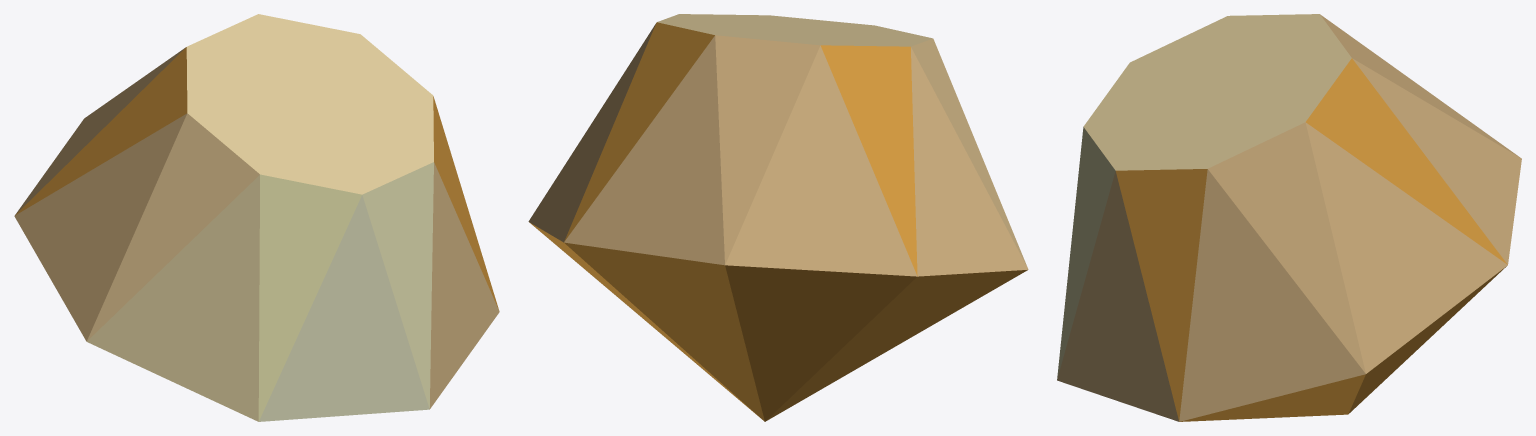
File: item_gem_topaz.glb
3 renders of one model, left to right at view 1: azimuth 30°, elevation 25°; view 2: azimuth 150°, elevation 25°; view 3: azimuth 270°, elevation 25°, orthographic. The views are drawn at different scales.
Parts seen in each view (by area): view 1: item_gem_topaz_gloss; view 2: item_gem_topaz_gloss; view 3: item_gem_topaz_gloss.
Part boxes in pixels (box(x1,y1,x2,y2)): item_gem_topaz_gloss: box(14, 14, 499, 421); item_gem_topaz_gloss: box(528, 14, 1028, 421); item_gem_topaz_gloss: box(1057, 14, 1521, 421).
Bounding box in the file's own units: 0.2484 × 0.2105 × 0.2333.
